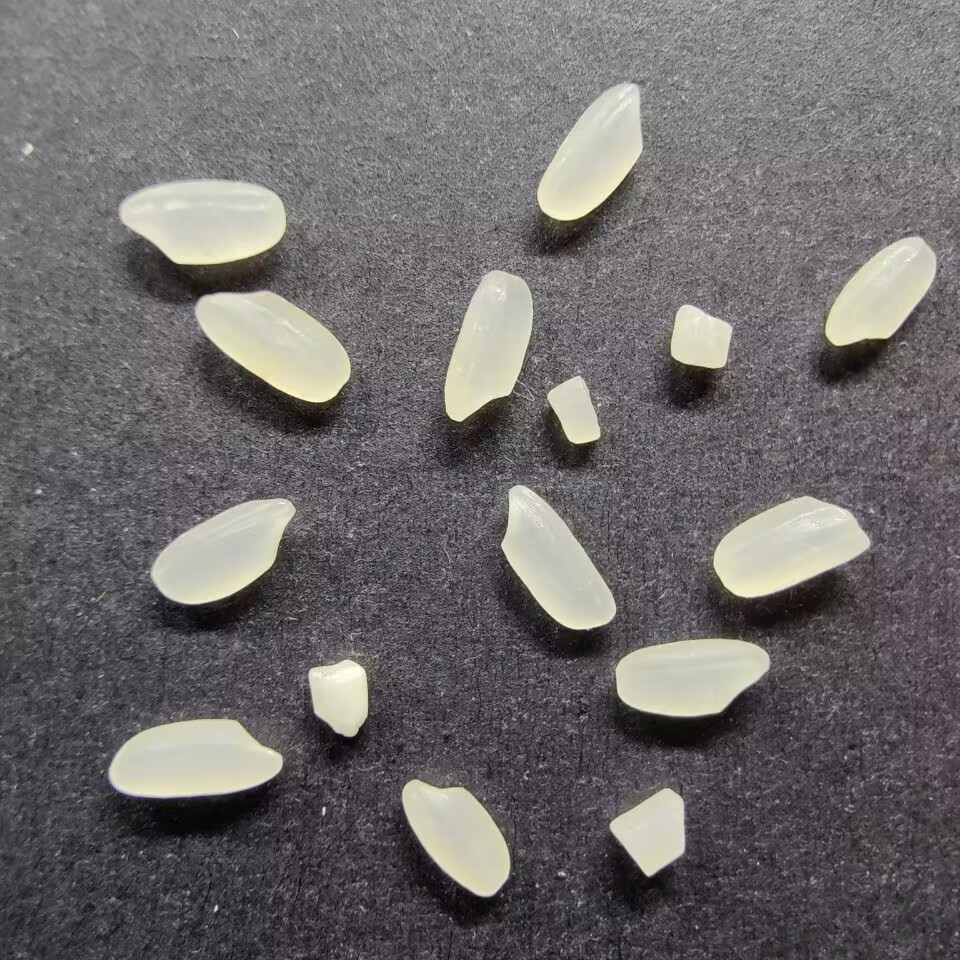broken: (606, 784, 688, 880), (305, 657, 370, 739), (668, 301, 735, 369), (545, 373, 601, 445)
rice: (193, 289, 353, 402), (498, 482, 617, 631), (712, 494, 874, 599), (535, 79, 646, 223), (151, 497, 295, 605), (117, 178, 287, 268), (107, 717, 284, 799), (443, 269, 535, 422), (399, 776, 512, 899), (822, 234, 939, 349), (613, 638, 773, 717)
